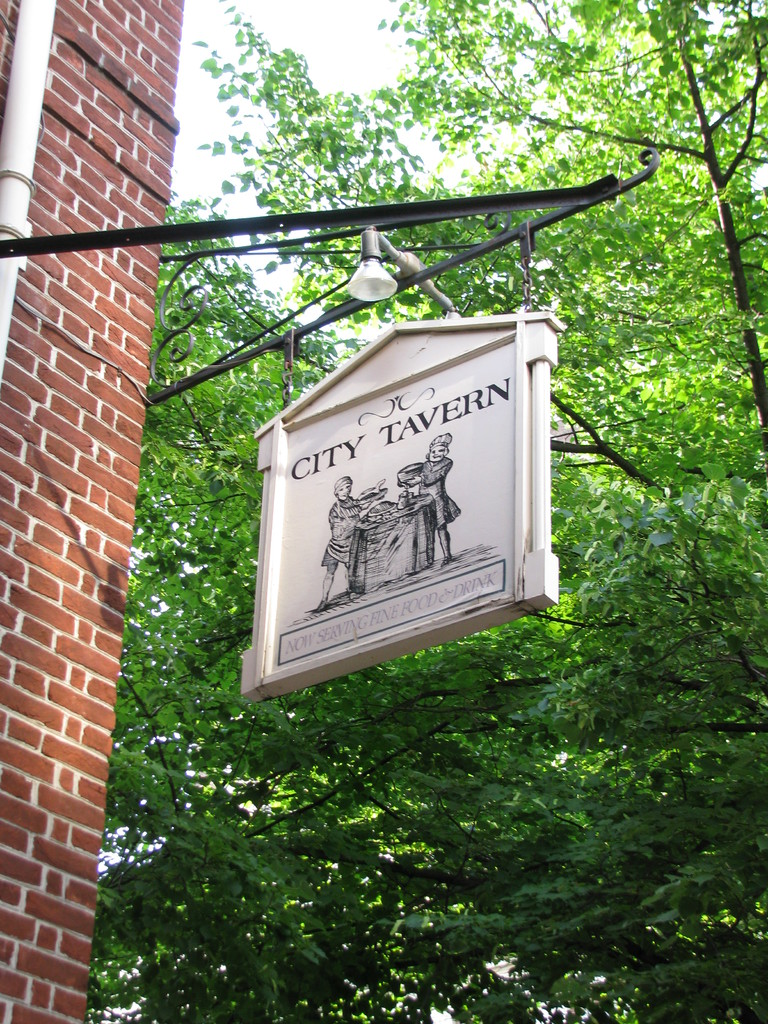Tree: (86, 0, 767, 1023)
